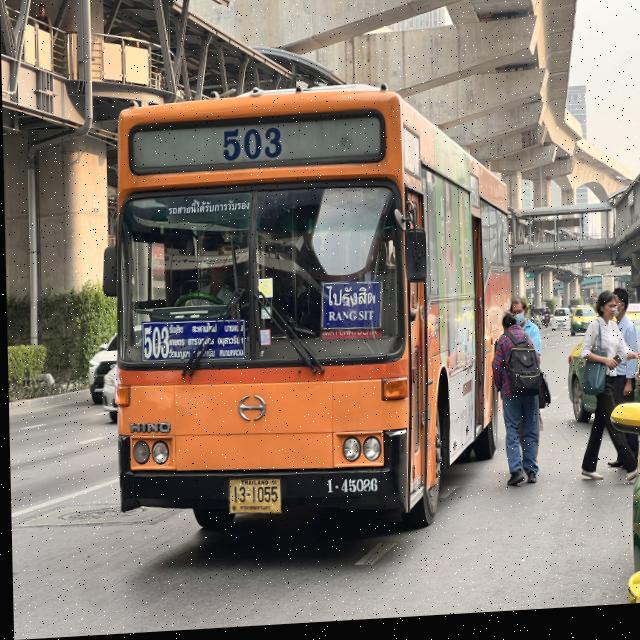BMTA-bus: (96, 63, 519, 561)
Bus-Line-Number: (215, 127, 291, 168)
Destination-Sign-Normal: (318, 286, 381, 334)
